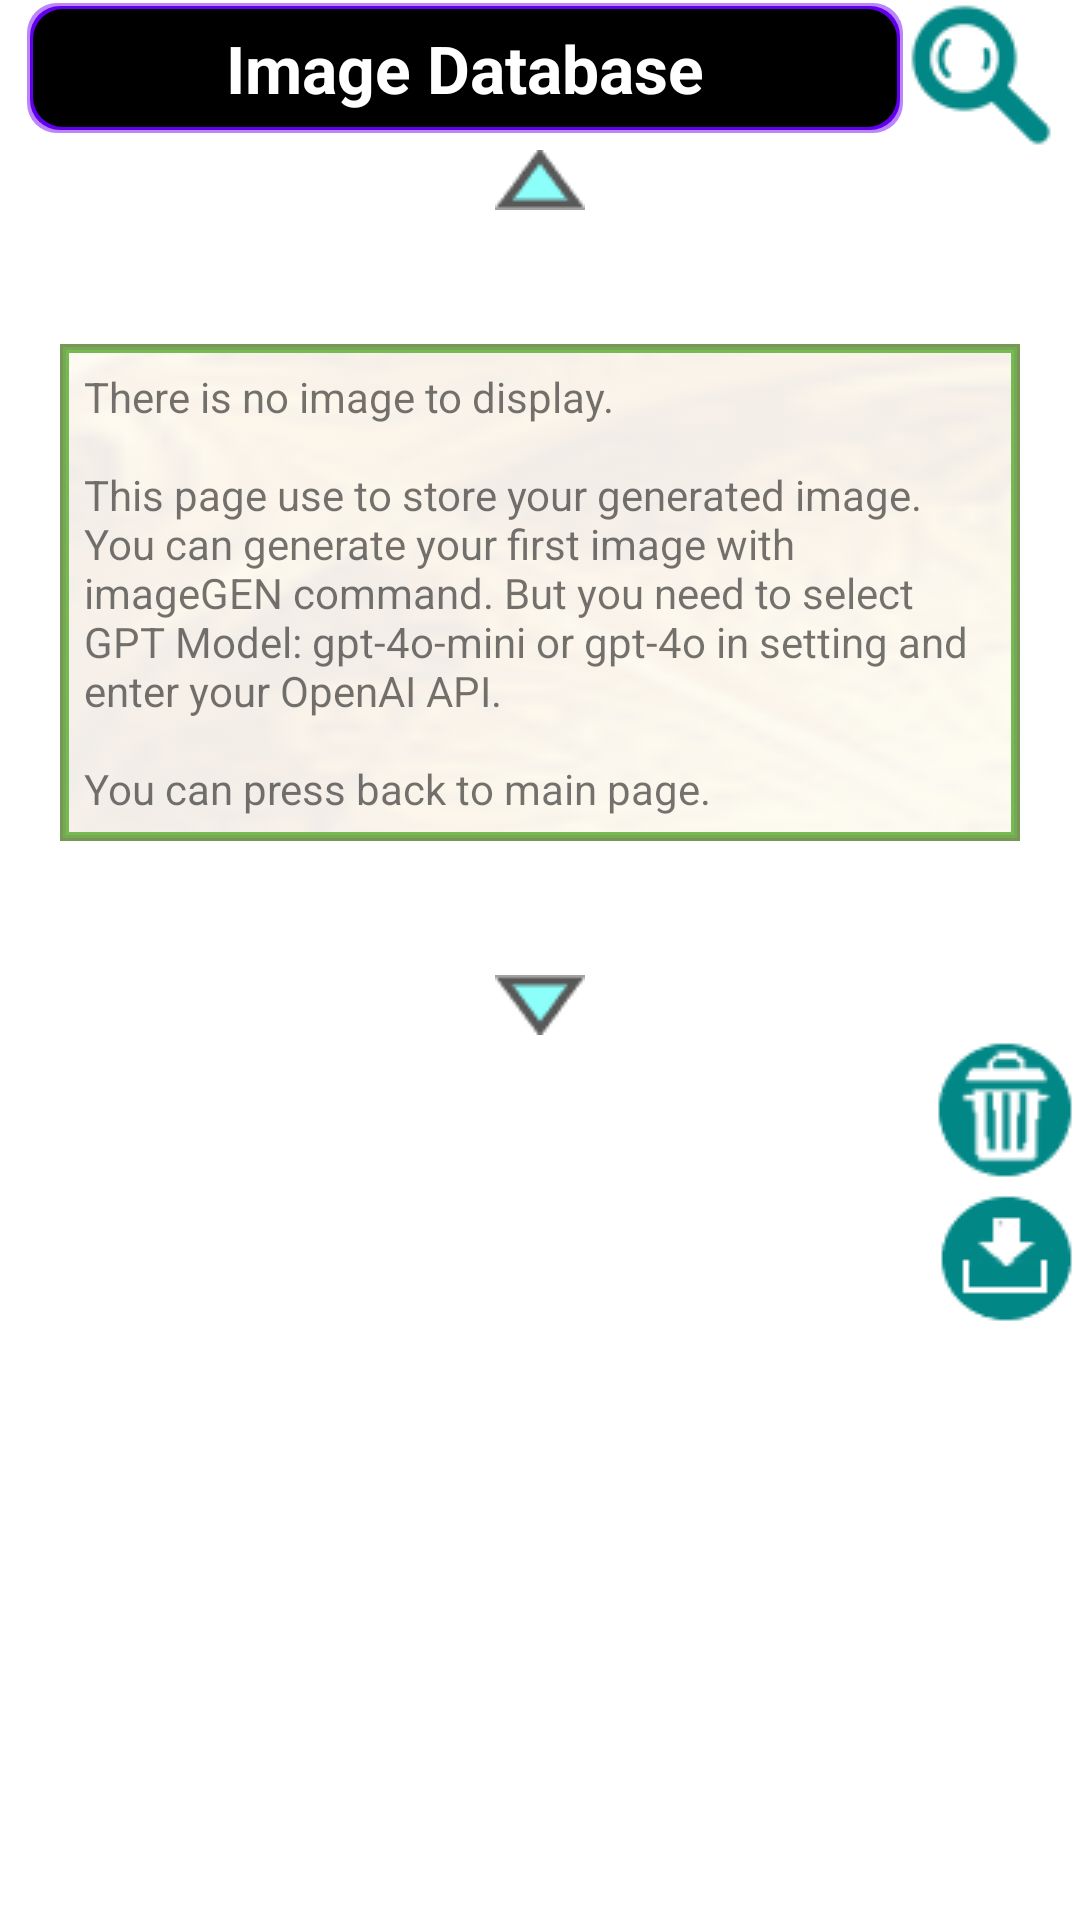

Screen size 1080×1920. Icon name, then its center in pixels as (x,y):
Delete: (1005,1110)
Down: (540,1005)
Save: (1006,1258)
Search: (981,75)
Up: (540,180)
